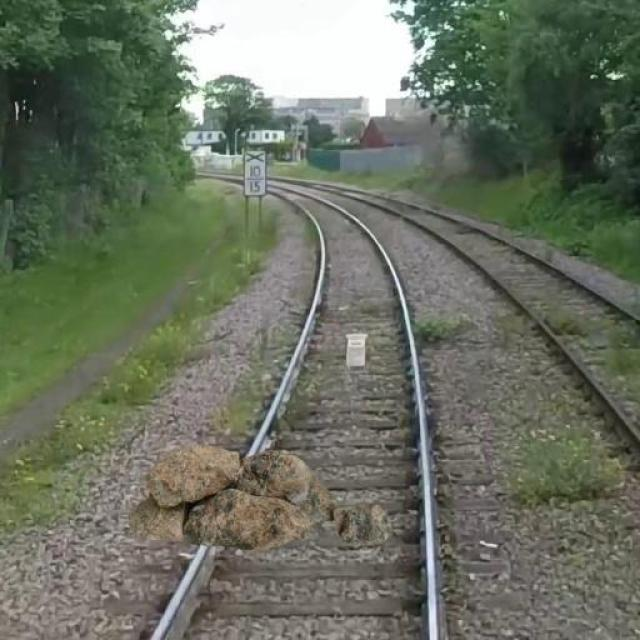Stone: (121, 443, 384, 552)
